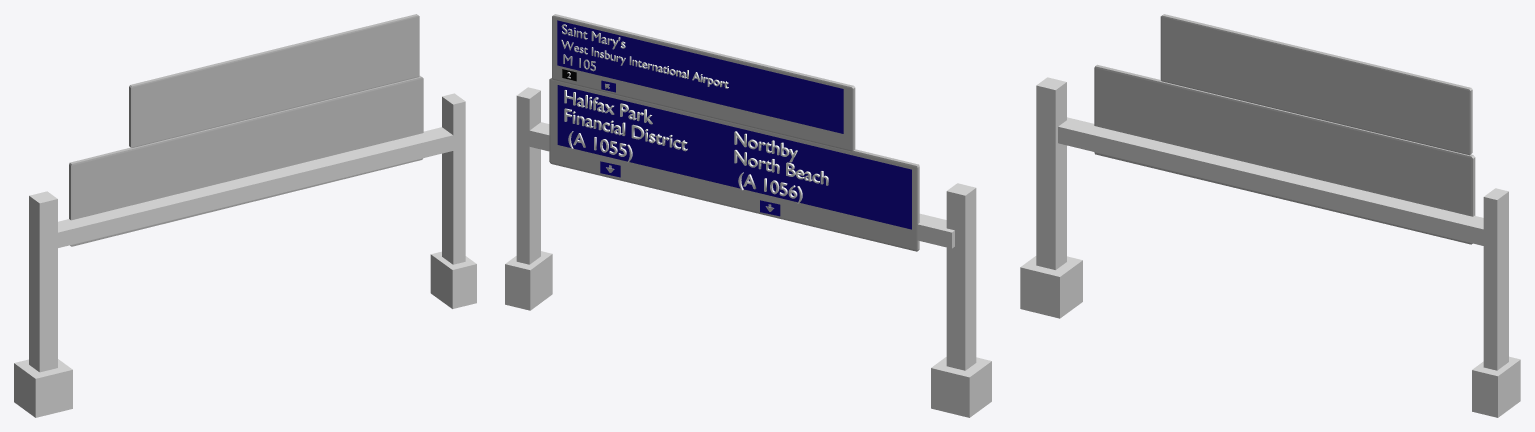
Rendered from M150JCT2ExitSignWestbound.fbx.
3 views of the same model, side by side, from view 1: azimuth 30°, elevation 25°; view 2: azimuth 150°, elevation 25°; view 3: azimuth 330°, elevation 25° (orthographic). The views are drawn at different scales.
Visible parts, largest first — view 1: Cube.002, Cube.008, Cube.001, Cube.005; view 2: Plane.002, Plane.001, Cube.002, Cube.005, Cube.001, Cube.008, Text.002, Text.006, Text.004, Text.005, Text.003; view 3: Cube.002, Cube.008, Cube.001, Cube.005.
Part boxes in pixels (left/top/right/bottom): Cube.002: left=69, top=76, right=423, bottom=246; Cube.008: left=129, top=14, right=419, bottom=147; Cube.001: left=58, top=93, right=476, bottom=308; Cube.005: left=14, top=191, right=72, bottom=417; Plane.002: left=557, top=85, right=911, bottom=229; Plane.001: left=557, top=20, right=843, bottom=133; Cube.002: left=549, top=78, right=919, bottom=251; Cube.005: left=931, top=183, right=991, bottom=417; Cube.001: left=505, top=87, right=954, bottom=310; Cube.008: left=552, top=14, right=855, bottom=151; Text.002: left=564, top=90, right=687, bottom=151; Text.006: left=734, top=131, right=828, bottom=185; Text.004: left=561, top=39, right=728, bottom=88; Text.005: left=738, top=172, right=802, bottom=203; Text.003: left=568, top=131, right=632, bottom=162; Cube.002: left=1094, top=64, right=1475, bottom=244; Cube.008: left=1160, top=14, right=1472, bottom=155; Cube.001: left=1058, top=117, right=1520, bottom=417; Cube.005: left=1020, top=77, right=1082, bottom=318.
Size of the model in its own units: 2381 by 1483 by 234.
